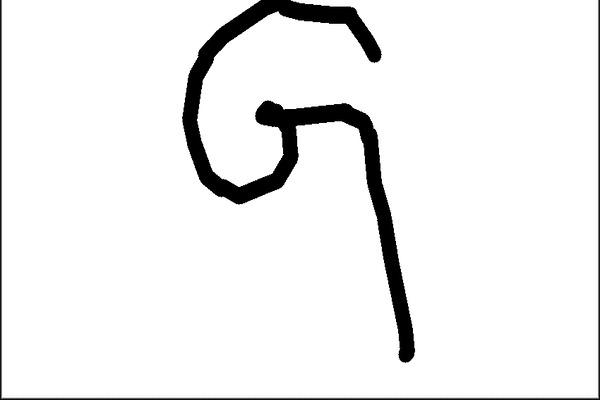G: (174, 1, 423, 368)
